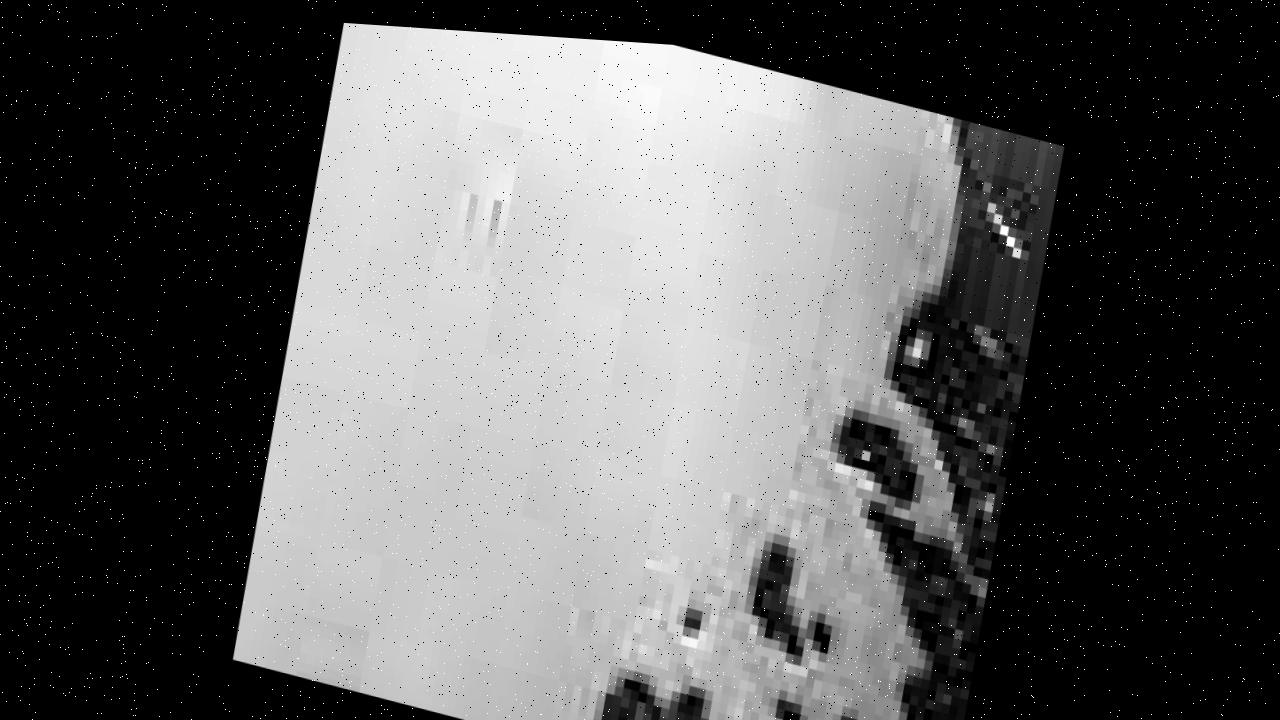drinks Stains: (218, 11, 1075, 720)
